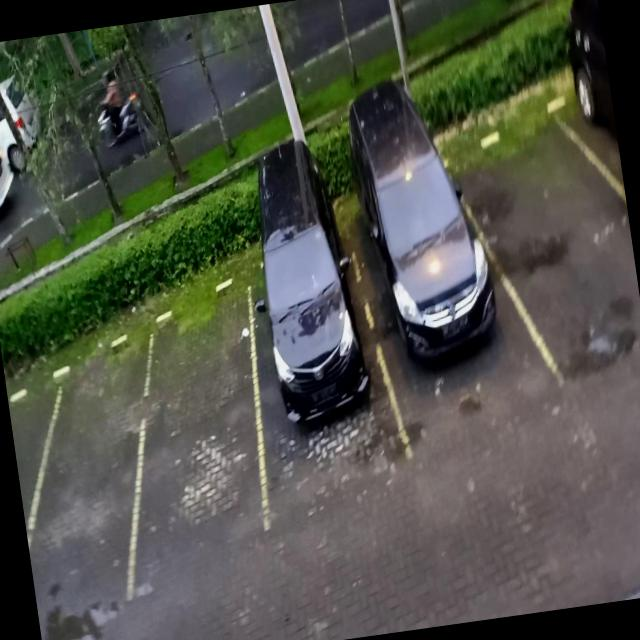car: (226, 198, 407, 528), (349, 129, 529, 451), (553, 0, 631, 268)
free: (115, 284, 283, 590), (473, 109, 640, 389), (10, 344, 158, 626)
